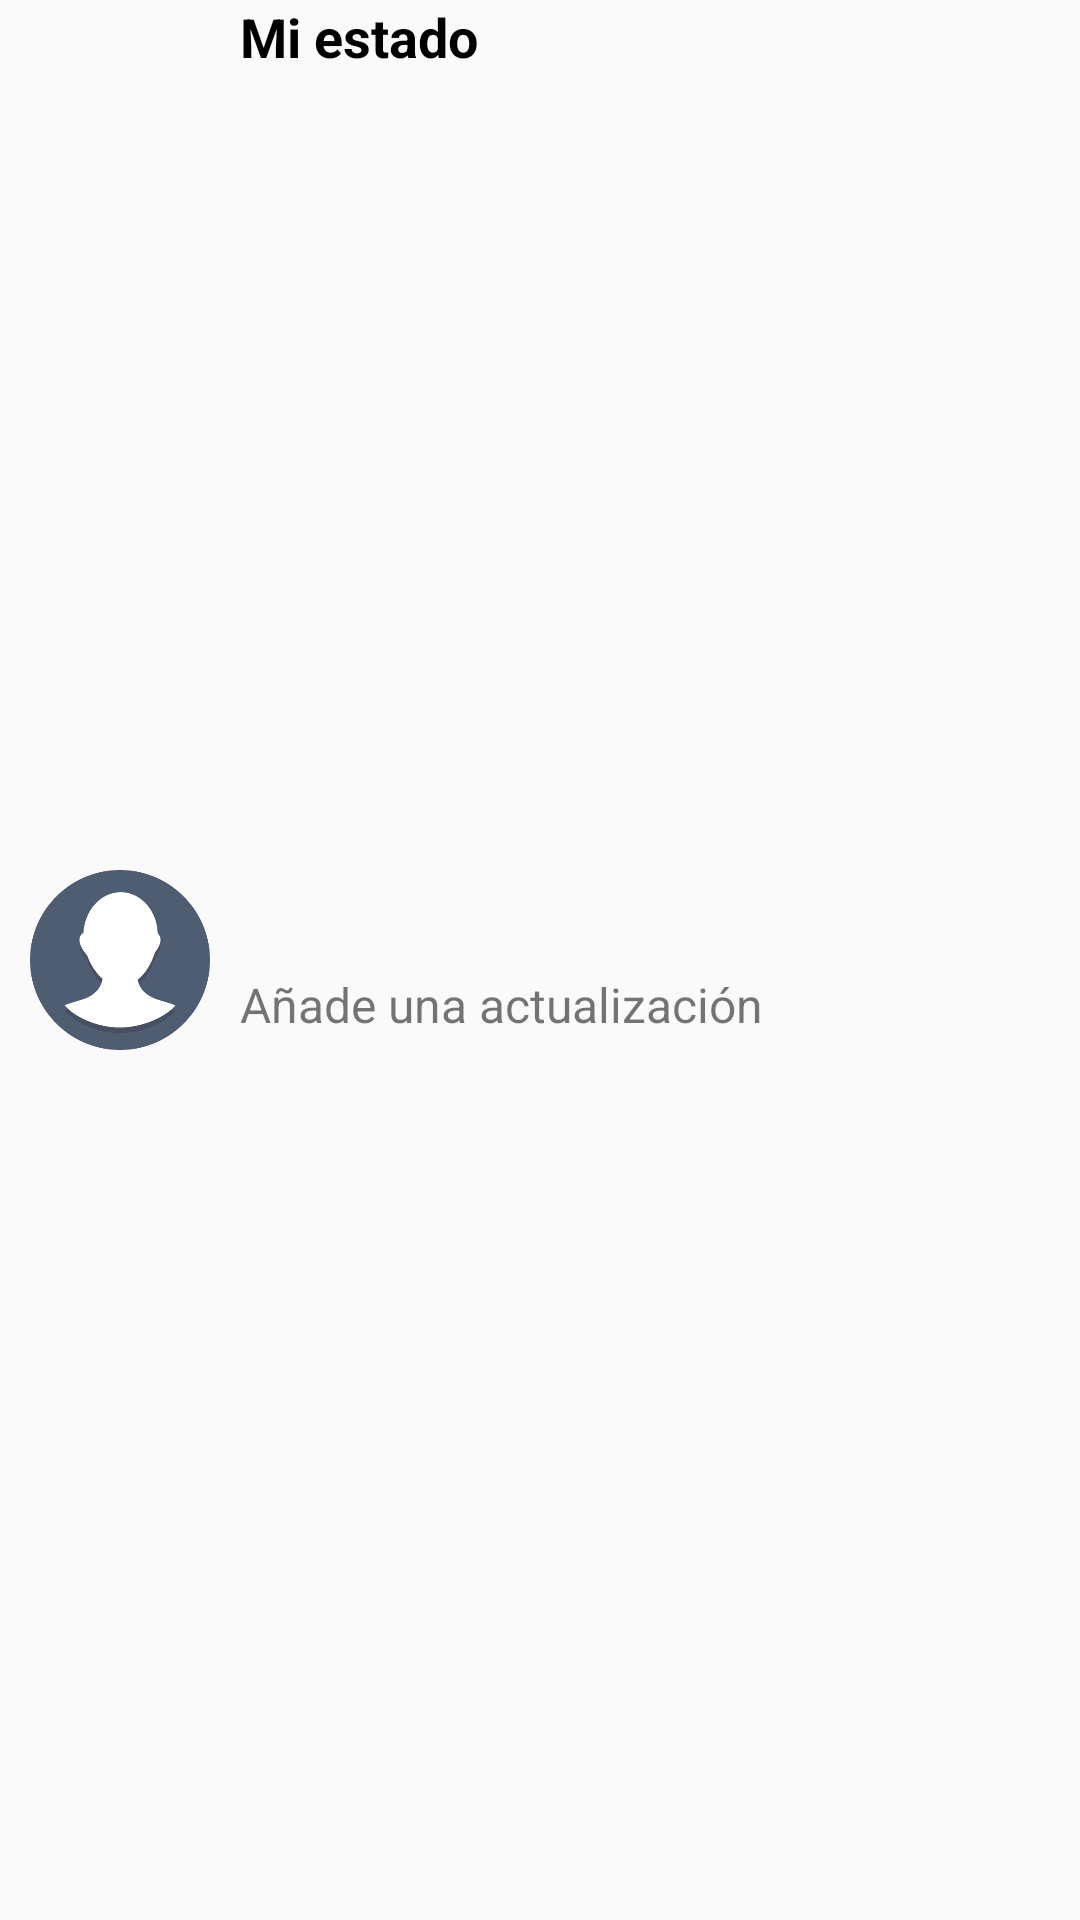

Icons on this 1080*1920 Android screen, each with the point to tap as (x,y):
circle profile: (120,960)
